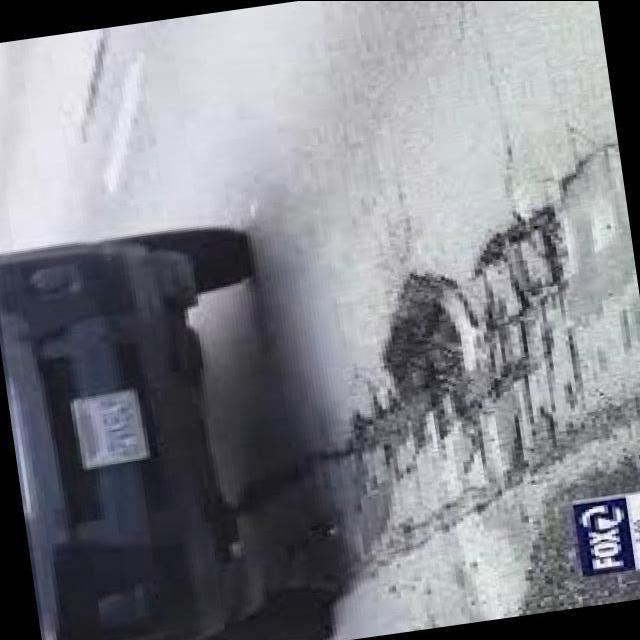pothole: (328, 212, 564, 571)
